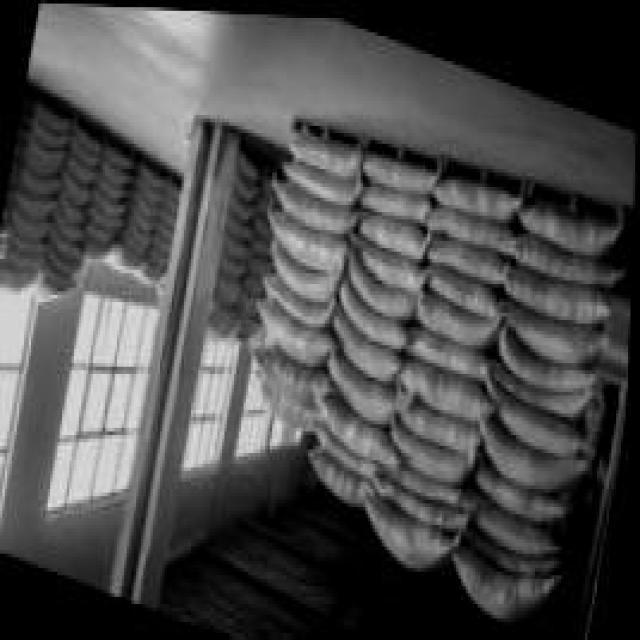gunny_bag: (479, 406, 589, 484), (455, 540, 569, 614), (486, 372, 587, 448), (499, 290, 606, 358), (500, 317, 597, 386), (364, 493, 457, 563), (489, 350, 592, 409), (515, 223, 623, 278), (505, 259, 610, 314), (322, 386, 398, 460), (251, 339, 329, 411), (333, 300, 402, 377), (399, 361, 491, 417), (339, 271, 411, 342), (521, 197, 619, 249), (415, 284, 500, 343), (346, 227, 428, 286), (329, 350, 398, 420), (374, 468, 466, 520), (466, 522, 569, 568), (347, 247, 416, 315), (474, 462, 565, 513), (425, 200, 516, 251), (478, 496, 560, 552), (260, 303, 336, 363), (394, 410, 467, 471), (309, 442, 376, 505), (269, 212, 347, 266), (273, 179, 357, 229), (406, 324, 489, 374), (272, 236, 343, 293), (434, 168, 520, 214), (428, 227, 507, 277), (262, 269, 332, 323), (360, 202, 429, 254), (287, 127, 363, 174), (402, 400, 479, 446), (280, 156, 362, 199), (426, 263, 500, 310), (262, 379, 330, 429), (363, 142, 434, 185), (363, 182, 430, 216), (30, 264, 79, 301), (14, 142, 66, 175), (8, 158, 58, 192), (0, 235, 46, 271), (1, 203, 47, 239), (4, 187, 54, 218), (46, 219, 83, 260), (209, 300, 244, 337), (106, 239, 147, 267), (228, 184, 260, 217), (56, 190, 86, 223), (67, 151, 99, 181), (60, 170, 89, 203), (0, 262, 33, 291), (34, 117, 67, 146), (54, 209, 84, 240), (93, 186, 127, 213), (234, 163, 259, 199), (129, 185, 160, 214), (69, 134, 98, 164), (133, 256, 164, 283), (88, 201, 121, 226), (35, 104, 68, 129), (96, 168, 125, 196), (127, 202, 157, 229), (45, 250, 79, 272), (100, 158, 130, 182), (226, 213, 257, 236), (217, 275, 244, 301), (225, 232, 252, 256), (86, 219, 113, 242), (81, 239, 112, 257), (220, 253, 244, 273), (140, 171, 165, 186), (150, 248, 169, 267), (138, 184, 163, 198)
